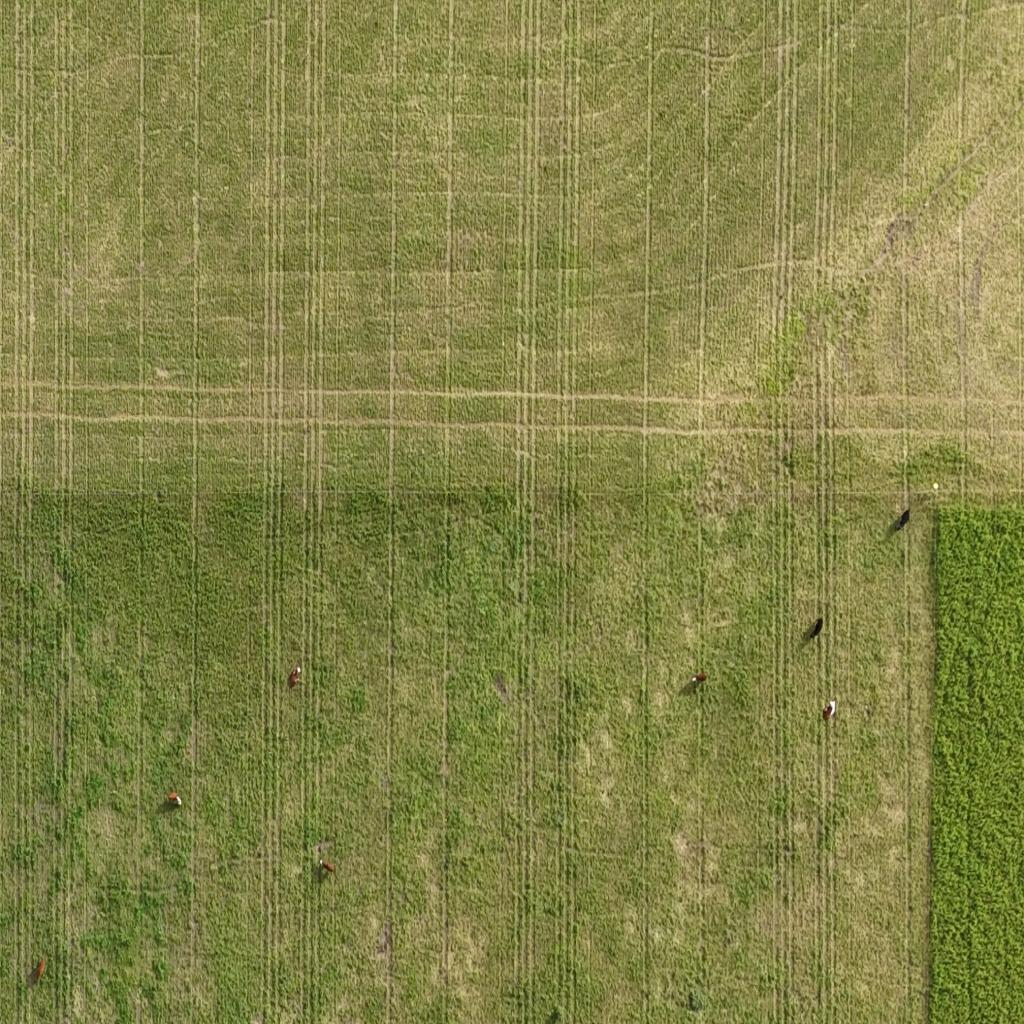cow: (886, 506, 911, 539), (163, 789, 184, 812), (804, 618, 824, 642), (32, 956, 47, 987), (318, 858, 336, 879), (823, 697, 837, 722), (290, 664, 304, 689), (690, 670, 708, 687)
